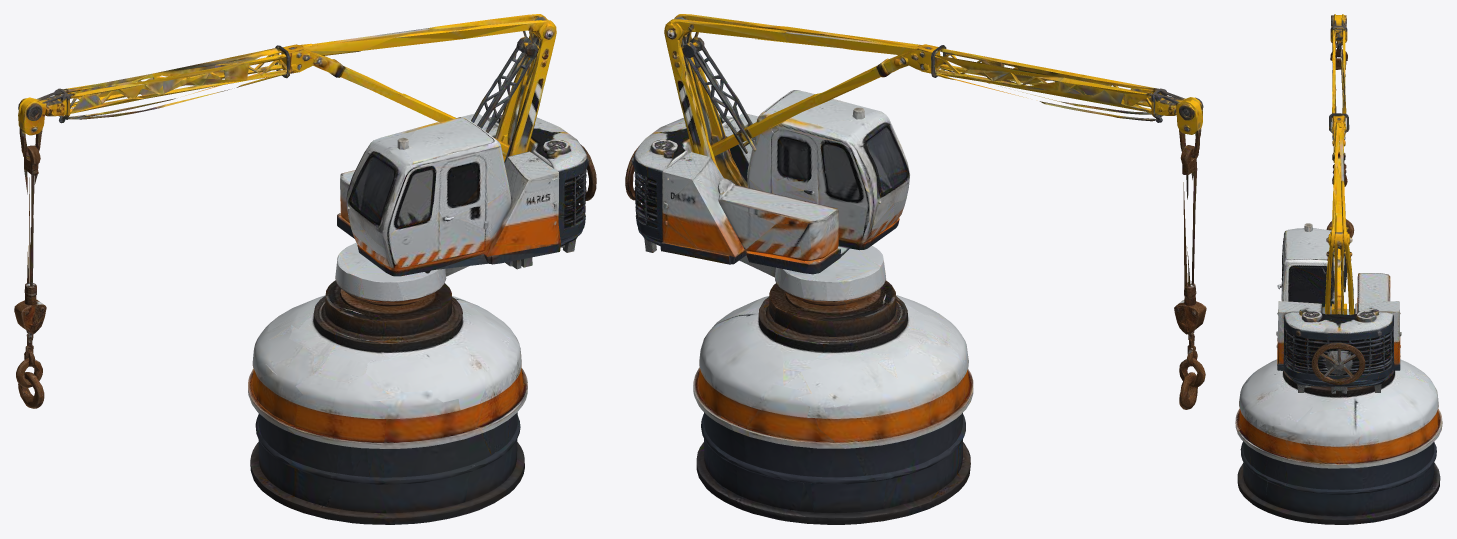
File: jib_crane.glb
3 renders of one model, left to right at view 1: azimuth 30°, elevation 25°; view 2: azimuth 150°, elevation 25°; view 3: azimuth 270°, elevation 25°, orthographic. The views are drawn at different scales.
Parts seen in each view (by area): view 1: Mesh_0; view 2: Mesh_0; view 3: Mesh_0.
Part boxes in pixels (bbox=[...]): Mesh_0: bbox=[14, 14, 596, 524]; Mesh_0: bbox=[625, 14, 1206, 524]; Mesh_0: bbox=[1235, 14, 1442, 524].
Bounding box in the file's own units: 1.9 × 1.47 × 0.8165.
1 material, 1 textured.
